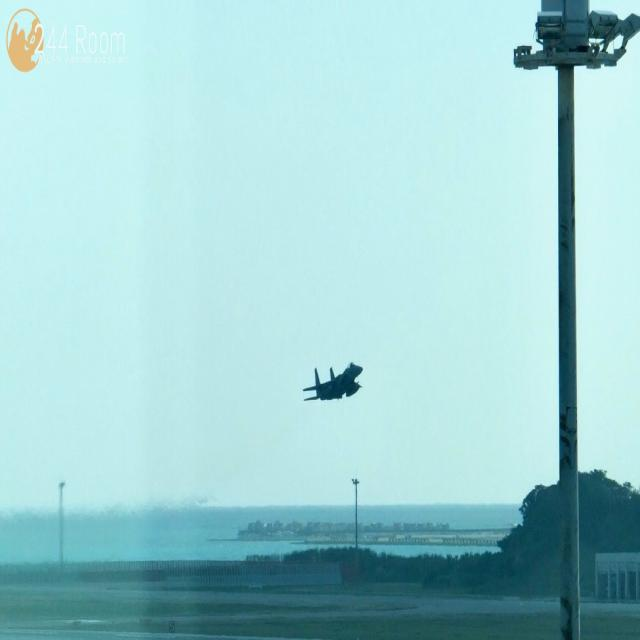MIL_Plane: (302, 362, 365, 402)
